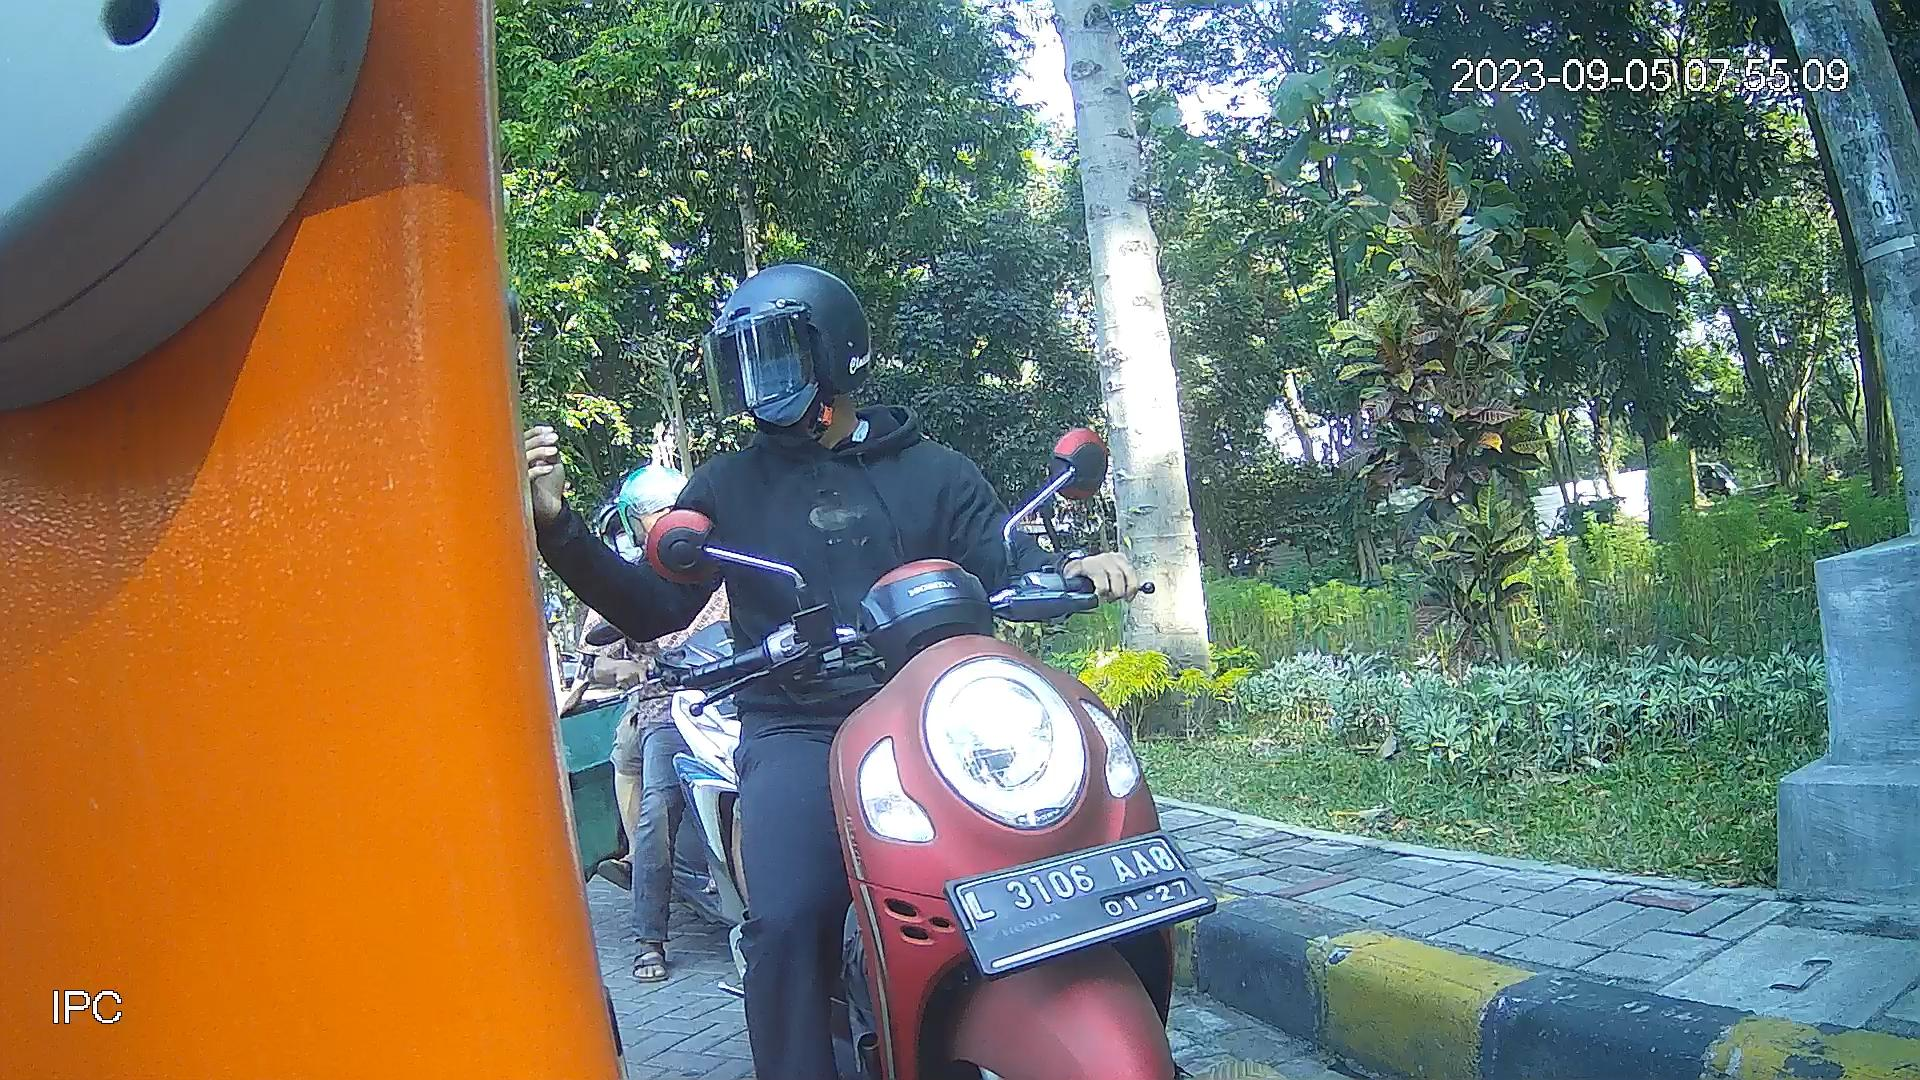plat: (942, 827, 1225, 986)
